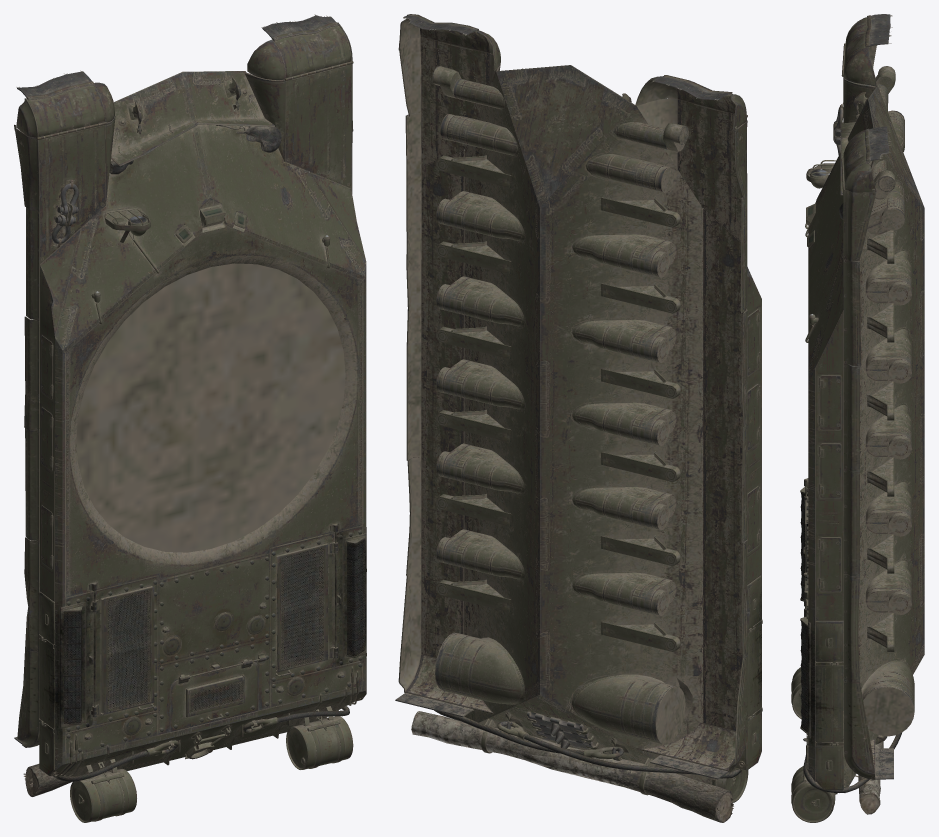
The model's file is Hull.glb.
3 renders of one model, left to right at view 1: azimuth 30°, elevation 25°; view 2: azimuth 150°, elevation 25°; view 3: azimuth 270°, elevation 25°, orthographic. The views are drawn at different scales.
Visible parts, largest first — view 1: set_0_group_0; view 2: set_0_group_0; view 3: set_0_group_0.
Part boxes in pixels (x1,y1,x2,y2): set_0_group_0: [14, 14, 366, 822]; set_0_group_0: [395, 14, 762, 822]; set_0_group_0: [791, 14, 924, 822].
Bounding box in the file's own units: 3.57 × 7.45 × 1.33.
1 material, 1 textured.
